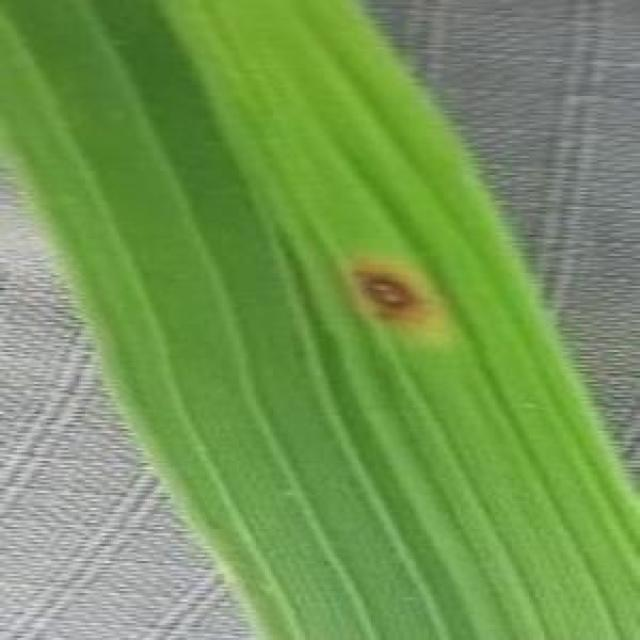Brown_Spot: (343, 255, 451, 350)
